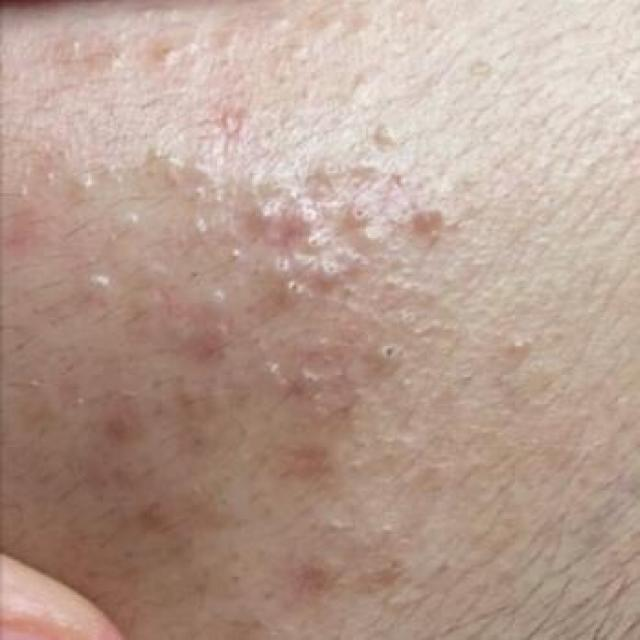Pimples: (265, 252, 368, 314), (368, 324, 432, 382), (136, 478, 188, 546), (276, 434, 344, 480), (204, 280, 241, 352), (400, 196, 452, 246), (290, 198, 334, 254), (81, 261, 129, 310), (82, 404, 146, 440), (217, 234, 260, 276), (296, 364, 337, 408), (370, 114, 412, 156), (300, 554, 336, 600), (145, 41, 186, 76), (142, 250, 176, 285), (346, 198, 370, 231)
